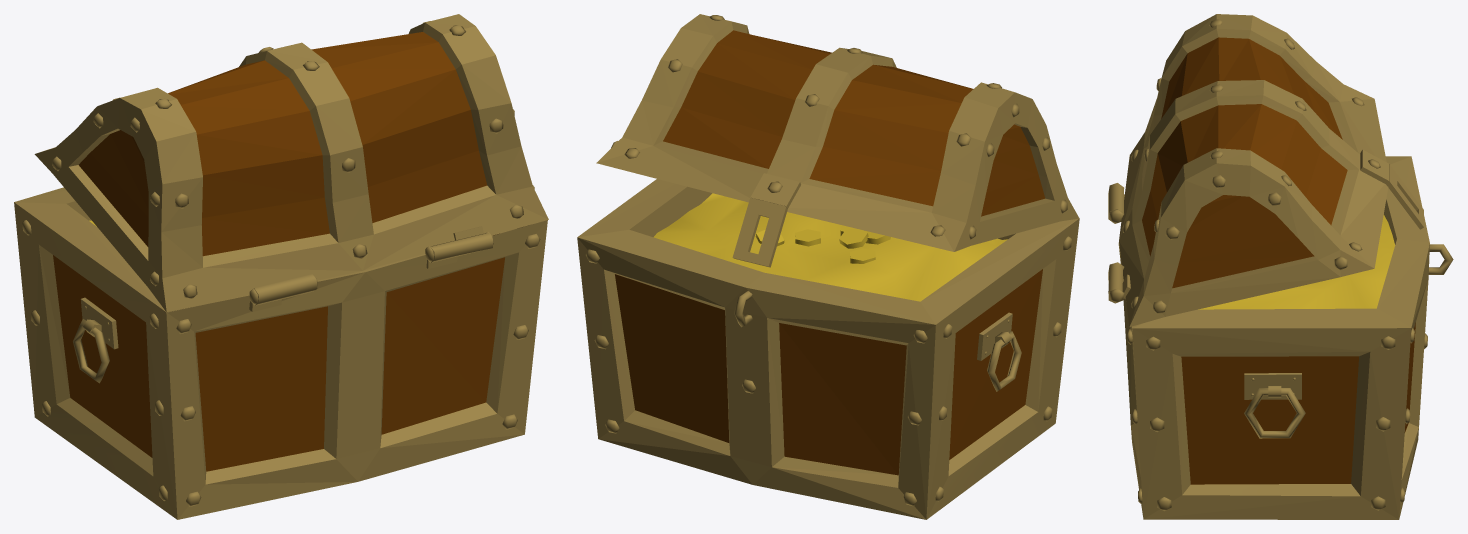
The model's file is chest_open.fbx.
3 views of the same model, side by side, from view 1: azimuth 30°, elevation 25°; view 2: azimuth 150°, elevation 25°; view 3: azimuth 270°, elevation 25° (orthographic). The views are drawn at different scales.
Visible parts, largest first — view 1: Plane006; view 2: Plane006; view 3: Plane006.
Part boxes in pixels (x1,y1,x2,y2): Plane006: [14, 14, 548, 519]; Plane006: [577, 14, 1079, 519]; Plane006: [1108, 14, 1453, 519].
Size of the model in its own units: 106 by 101 by 88.96.
